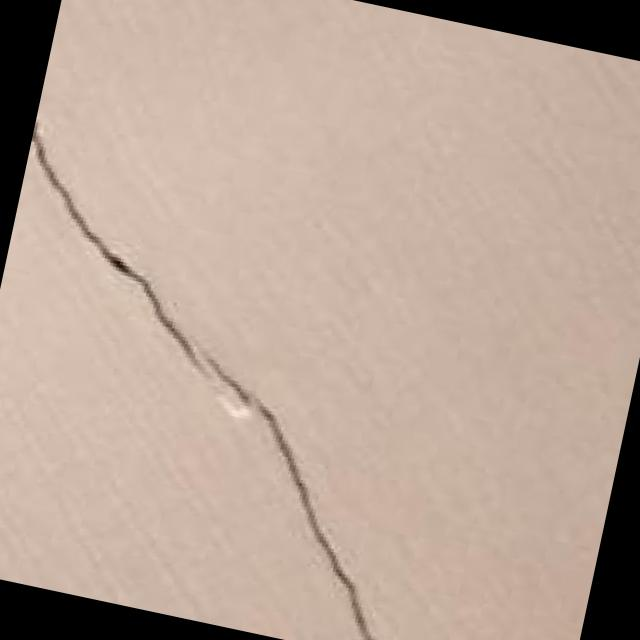crack: (0, 95, 513, 640)
